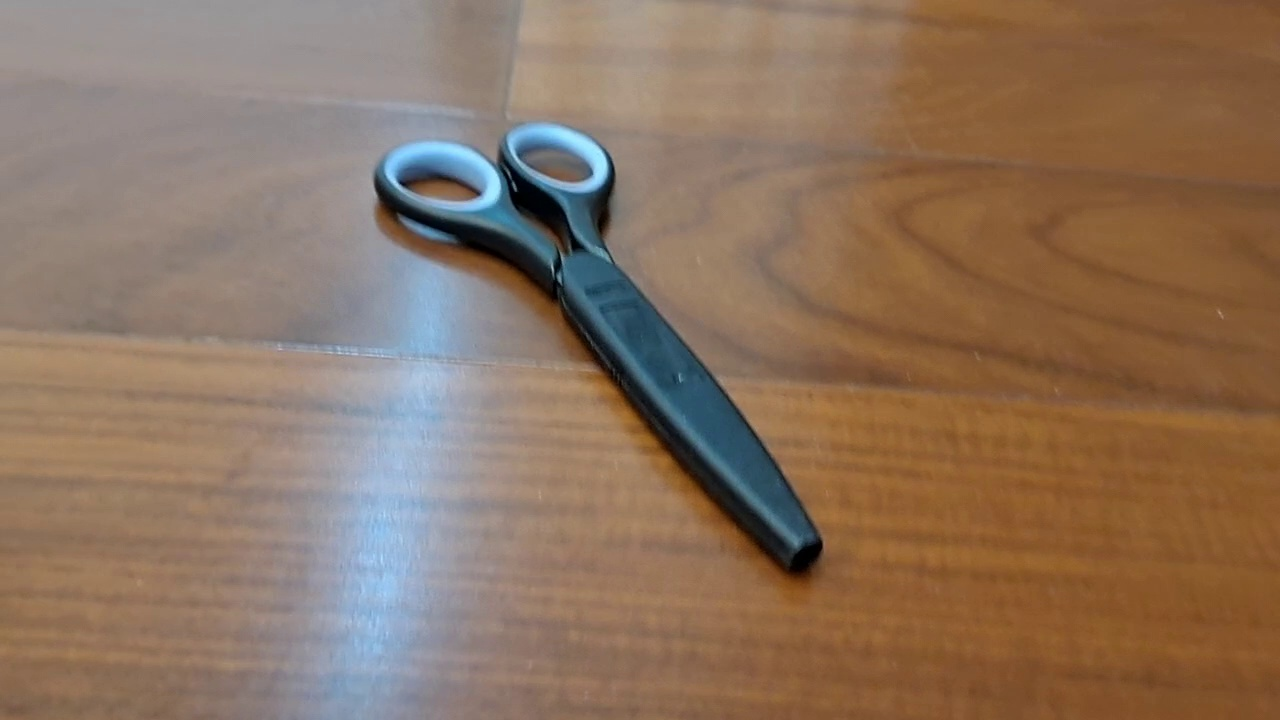scissors: (372, 121, 824, 576)
